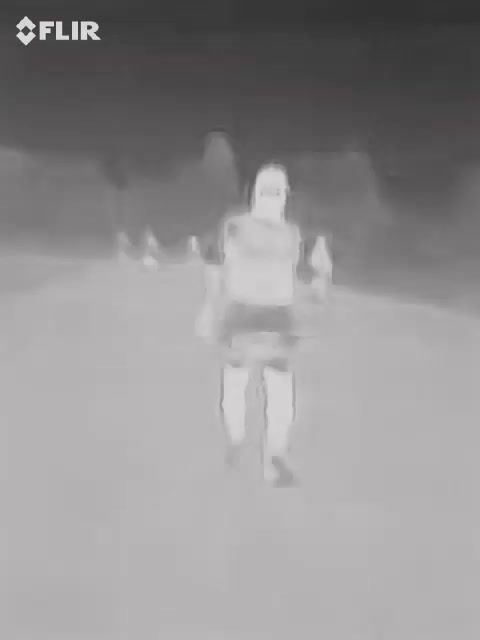head: (248, 160, 291, 225)
